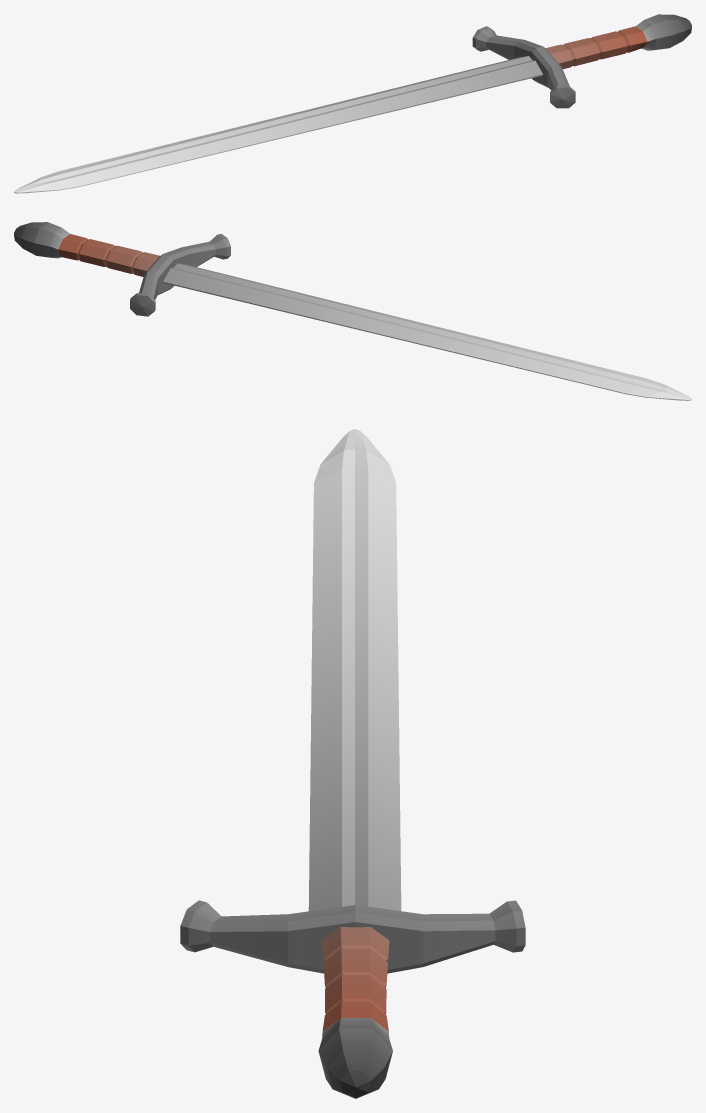
The model's file is Sword_A.fbx.
3 views of the same model, one above another, from view 1: azimuth 30°, elevation 25°; view 2: azimuth 150°, elevation 25°; view 3: azimuth 270°, elevation 25° (orthographic). The views are drawn at different scales.
Parts seen in each view (by area): view 1: Sword_A; view 2: Sword_A; view 3: Sword_A.
Boxes of the visible parts, x1,y1,x2,y2 form: Sword_A: [14, 14, 691, 193]; Sword_A: [14, 222, 691, 400]; Sword_A: [180, 429, 525, 1098].
Bounding box in the file's own units: 0.0141 × 0.000668 × 0.00311.
